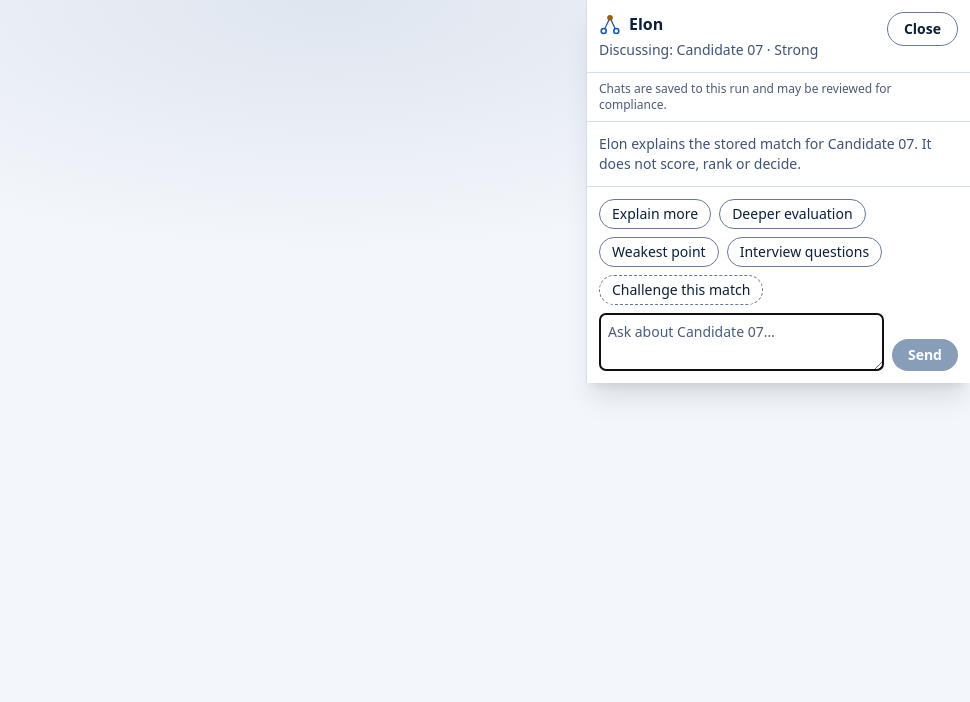
assistant panel › asks a starter question, shows an AI-labelled answer with proof chips from the record
Click the button "Explain more": (655, 214) top-left (599, 199), bottom-right (711, 229)
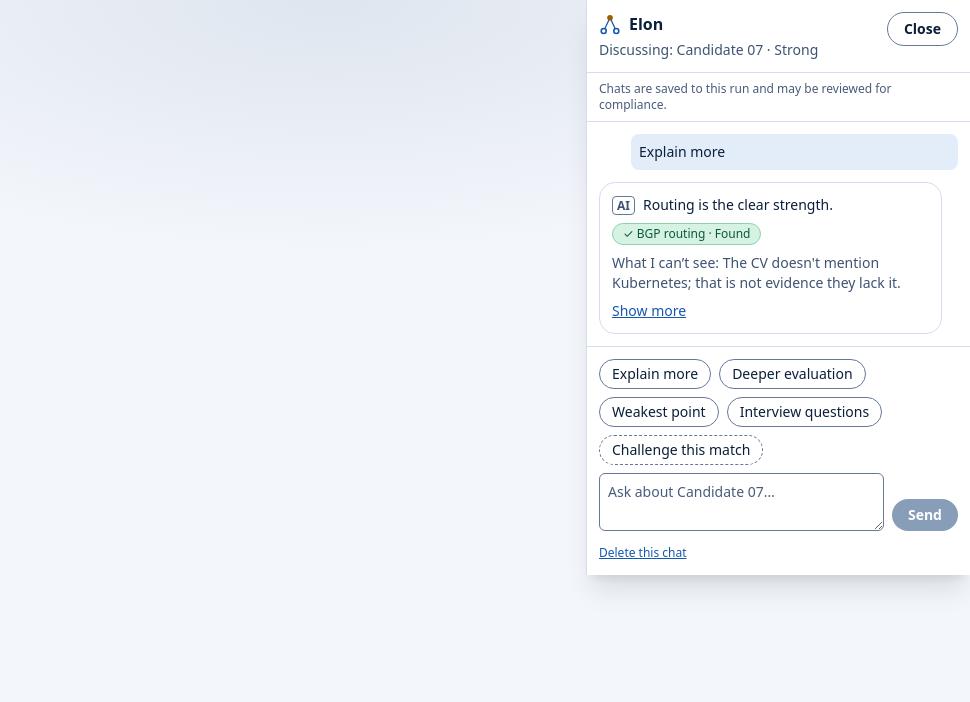
Expected: the text "Routing is the clear strength." is shown, top-left (643, 195), bottom-right (833, 214)
Expected: the text "AI" is shown, top-left (612, 196), bottom-right (635, 215)
Expected: the list named "Where this comes from" shows "BGP routing · Found", top-left (612, 223), bottom-right (762, 245)
Click the button "Show more": (649, 311) top-left (612, 301), bottom-right (686, 321)
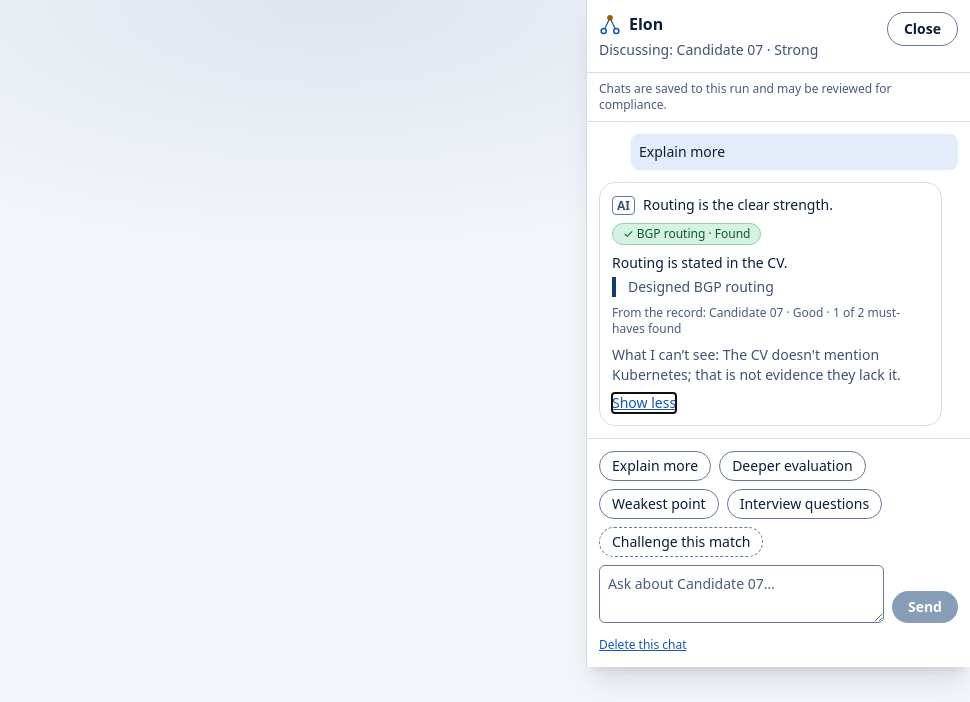
Expected: the text "Designed BGP routing" is shown, top-left (612, 277), bottom-right (929, 297)
Expected: the text "From the record:" is shown, top-left (612, 304), bottom-right (900, 337)
